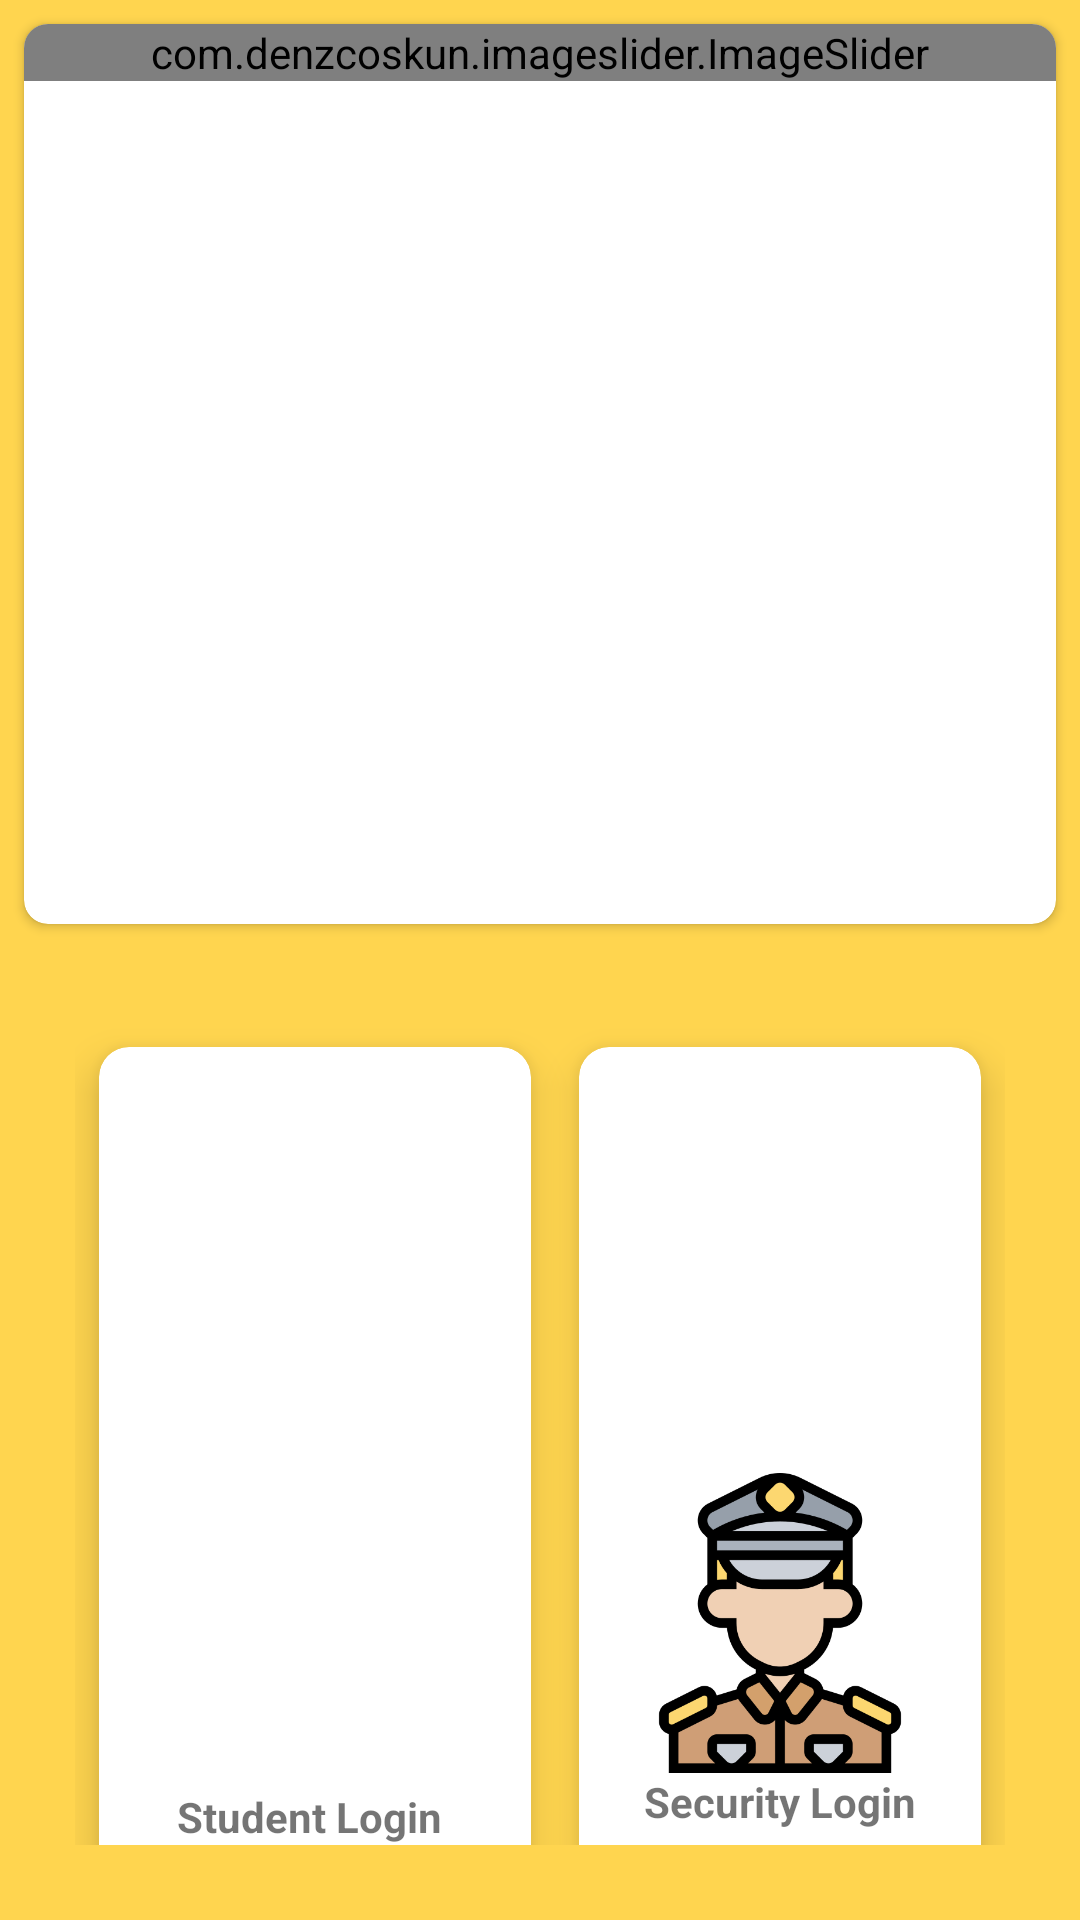

Point at icon controls on the screen. Image size 1080px×1920px, points as point (x, y).
warden: point (780, 1623)
